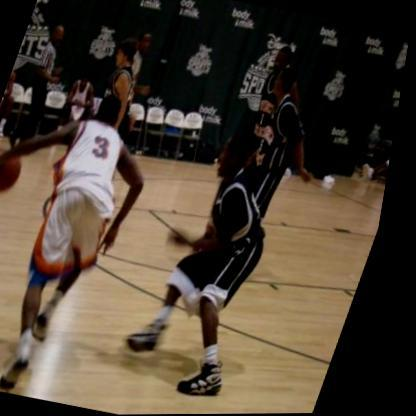basketball: (0, 146, 34, 195)
